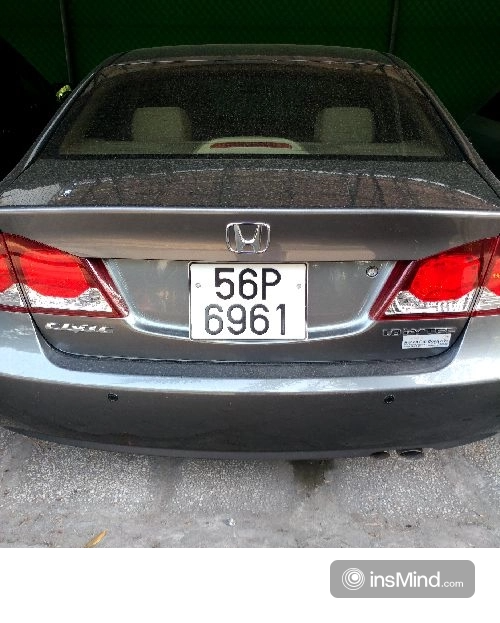number_plate: (184, 260, 310, 341)
